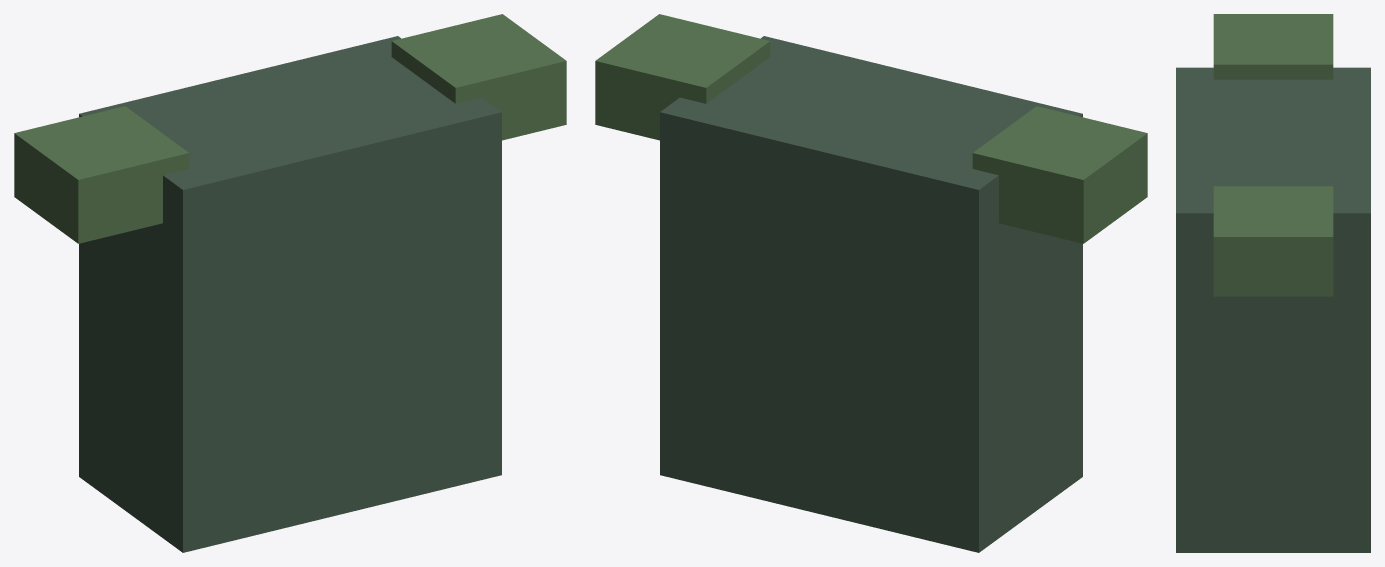
File: body_medium.glb
The picture shows the model from 3 angles, left to right: view 1: azimuth 30°, elevation 25°; view 2: azimuth 150°, elevation 25°; view 3: azimuth 270°, elevation 25°; orthographic projection. The views are drawn at different scales.
Visible parts, largest first — view 1: HeavyChest_Main, HeavyChest_PaulR, HeavyChest_PaulL; view 2: HeavyChest_Main, HeavyChest_PaulR, HeavyChest_PaulL; view 3: HeavyChest_Main, HeavyChest_PaulL, HeavyChest_PaulR.
Boxes of the visible parts, box(x1,y1,x2,y2) form: HeavyChest_Main: box(79, 36, 501, 552); HeavyChest_PaulR: box(14, 106, 189, 243); HeavyChest_PaulL: box(391, 14, 566, 140); HeavyChest_Main: box(660, 36, 1082, 552); HeavyChest_PaulR: box(972, 106, 1147, 243); HeavyChest_PaulL: box(595, 14, 770, 140); HeavyChest_Main: box(1176, 67, 1370, 552); HeavyChest_PaulL: box(1213, 186, 1333, 296); HeavyChest_PaulR: box(1213, 14, 1333, 79).
Size of the model in its own units: 1.94 by 1.44 by 0.715.
